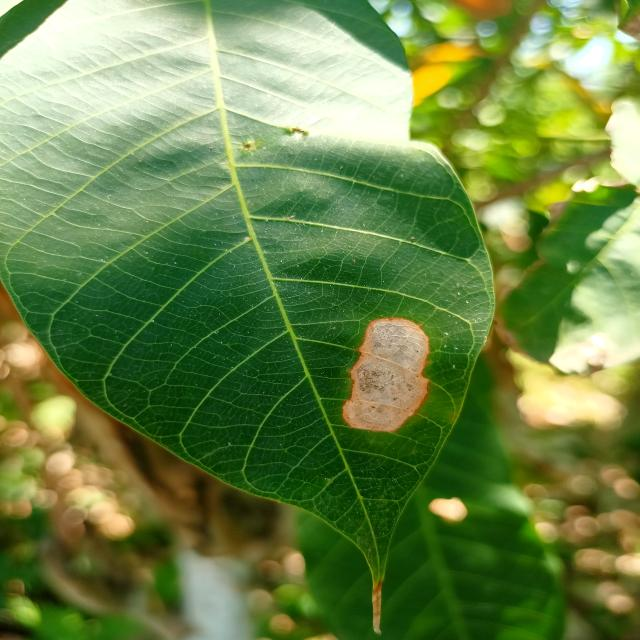Leaf-Blight: (342, 317, 430, 433), (372, 579, 382, 634)
